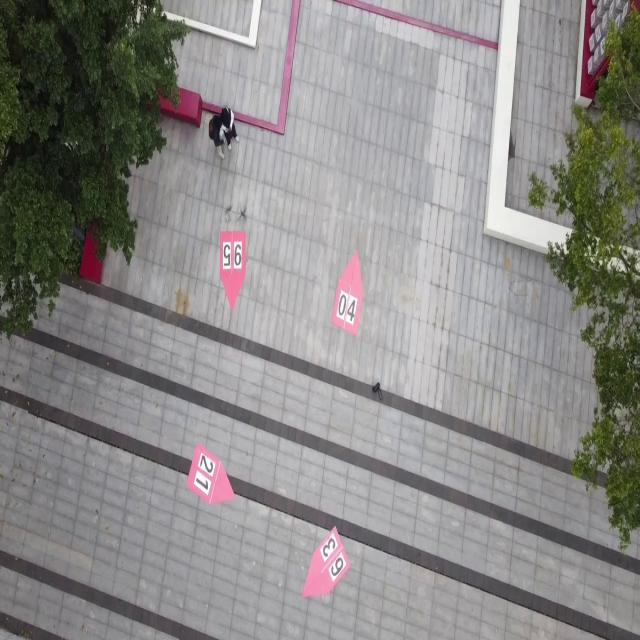-sign-: (301, 526, 352, 599), (186, 442, 235, 506), (332, 249, 364, 337), (219, 228, 247, 313)
